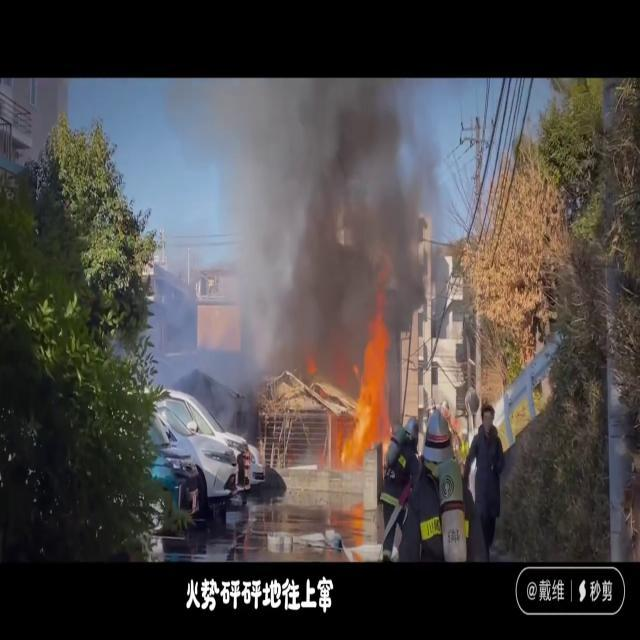Fire: (332, 308, 396, 458)
Smoke: (200, 78, 446, 338)
